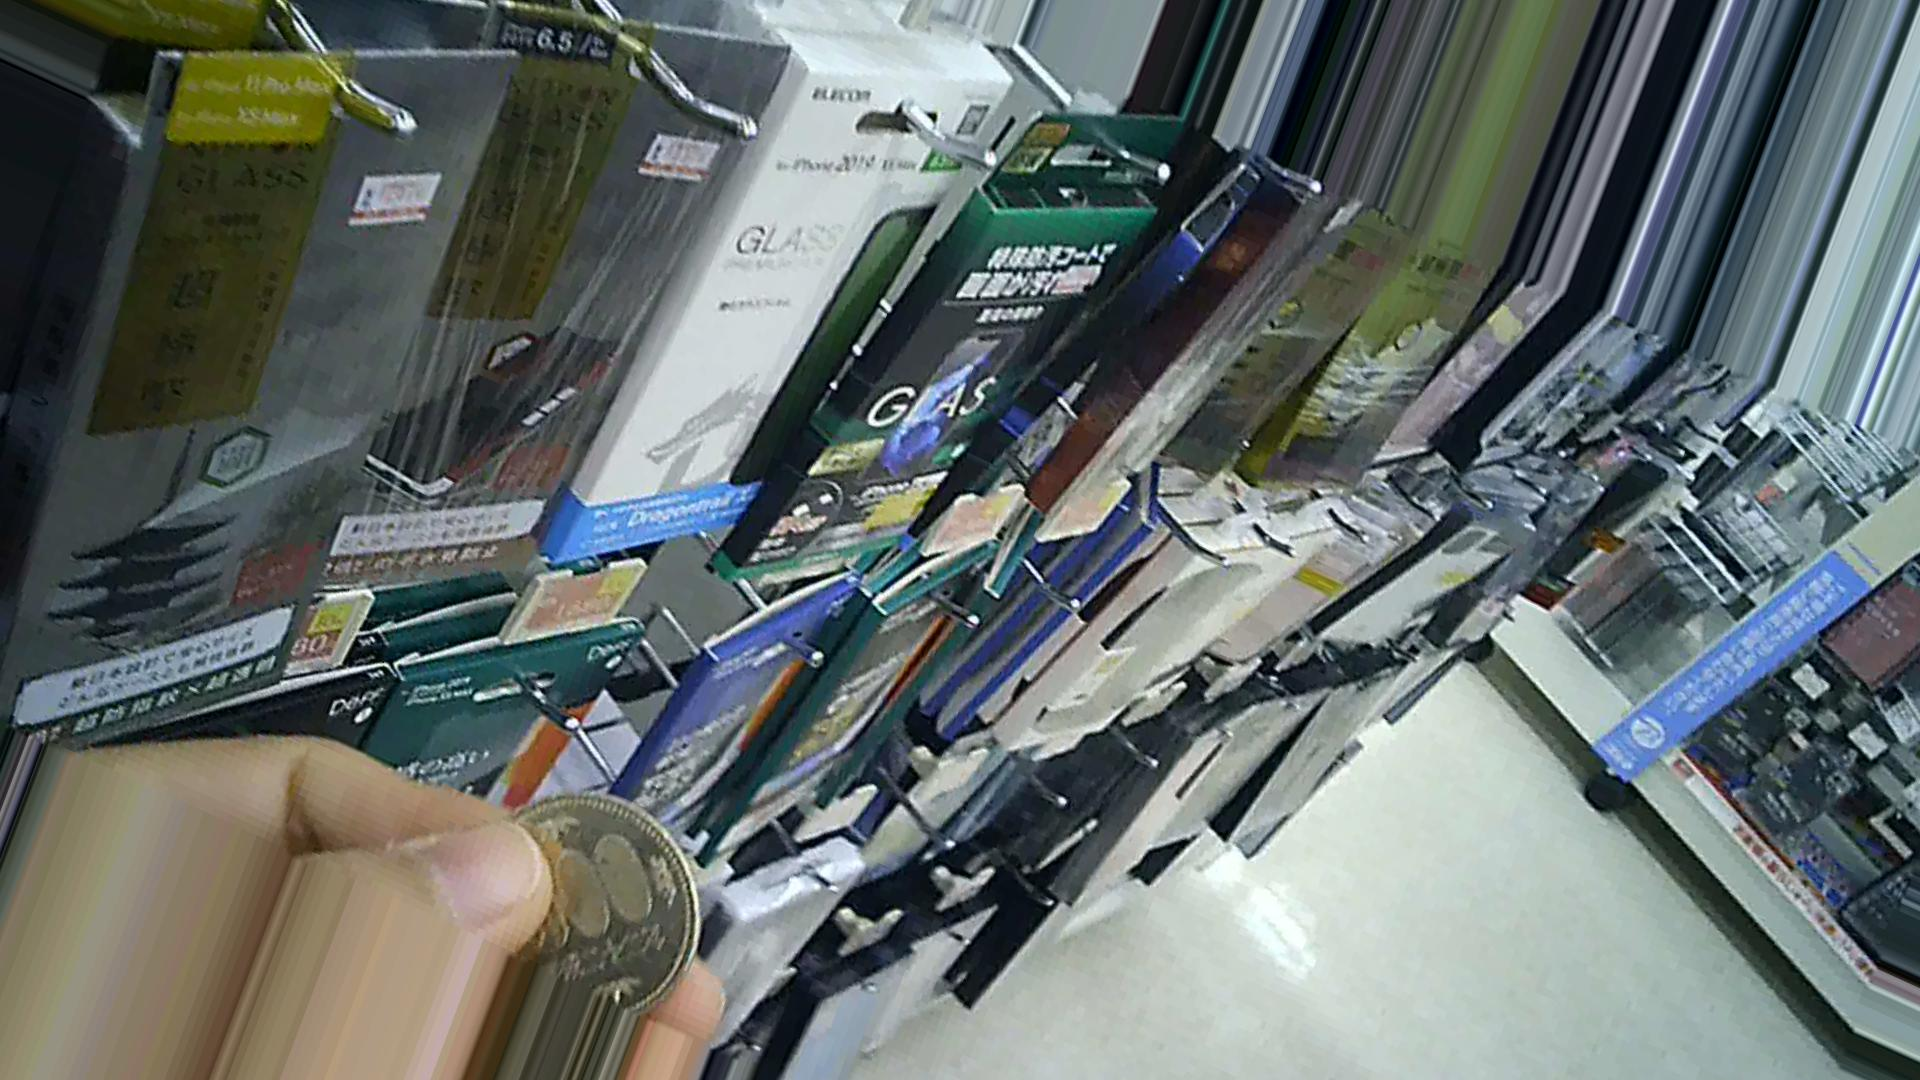500 Yen: (469, 794, 702, 1027)
